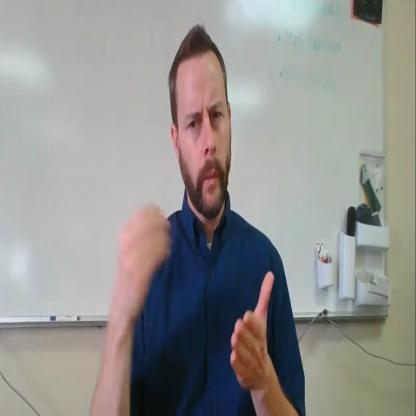Expensive: (102, 200, 278, 416)
